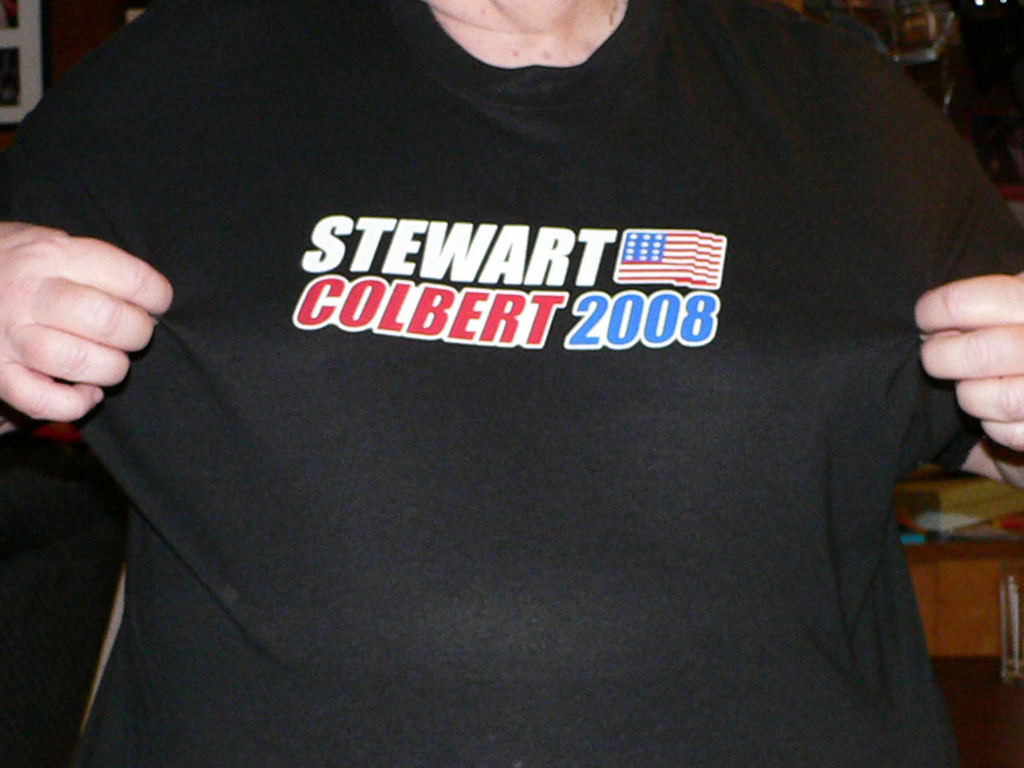Human_hand: (13, 221, 174, 414), (912, 273, 1023, 461)
